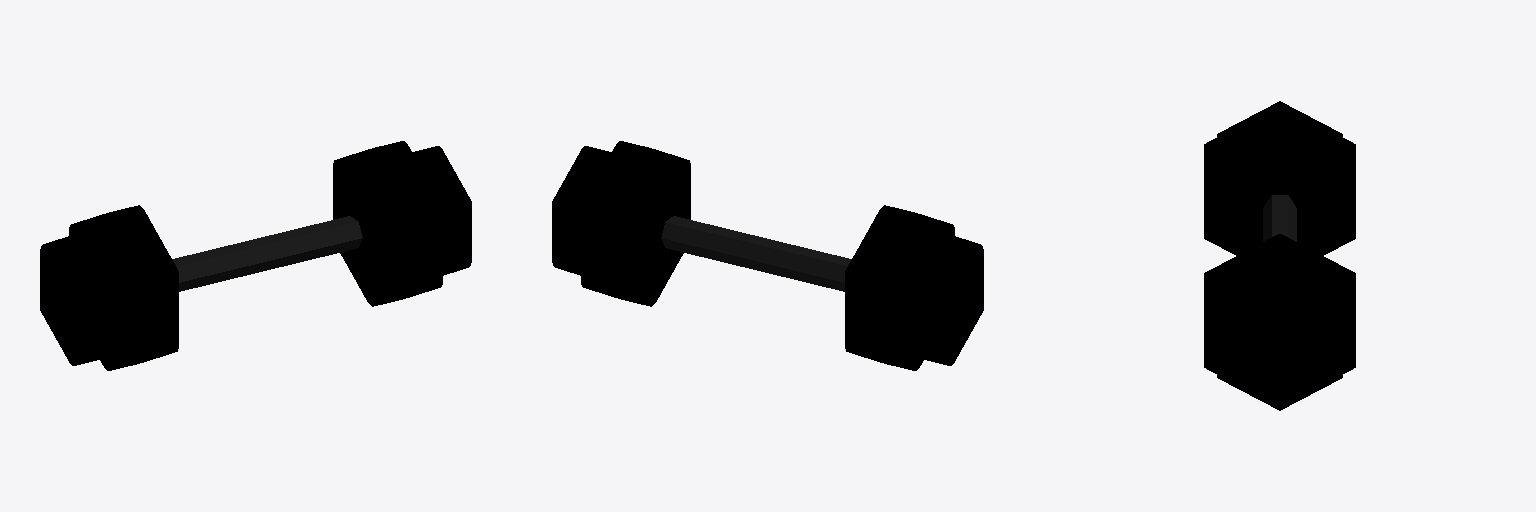
Rendered from Dumbell1.obj.
3 renders of one model, left to right at view 1: azimuth 30°, elevation 25°; view 2: azimuth 150°, elevation 25°; view 3: azimuth 270°, elevation 25°, orthographic.
Visible parts, largest first — view 1: Dumbell1_Cylinder.007; view 2: Dumbell1_Cylinder.007; view 3: Dumbell1_Cylinder.007.
Boxes of the visible parts, <box> form: Dumbell1_Cylinder.007: <box>40,141,471,370</box>; Dumbell1_Cylinder.007: <box>552,141,983,370</box>; Dumbell1_Cylinder.007: <box>1204,101,1355,410</box>.
Bounding box in the file's own units: 0.6772 × 0.2524 × 0.2186.